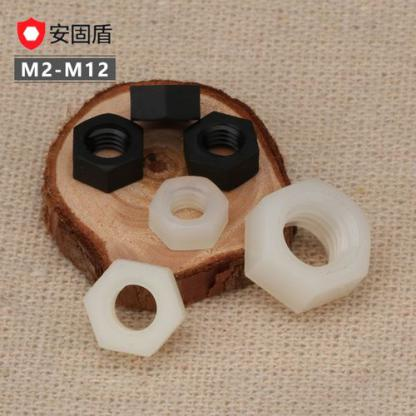FOD: (242, 178, 375, 316), (81, 255, 187, 359), (145, 172, 231, 253), (180, 107, 261, 192), (68, 114, 148, 194), (127, 83, 204, 126)
